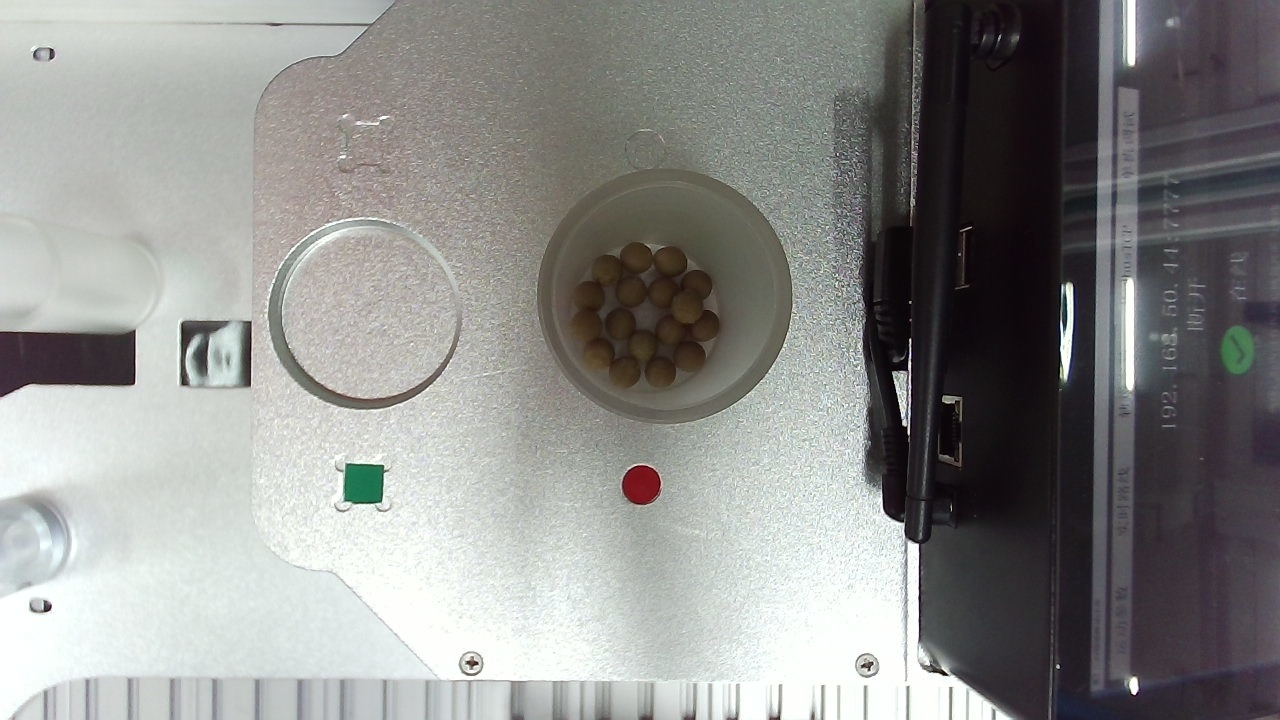XLabel: (587, 114, 655, 184)
YLabel: (1015, 139, 1083, 210)
transparentempty: (367, 204, 786, 610)
whiteempty: (919, 243, 1280, 617)
